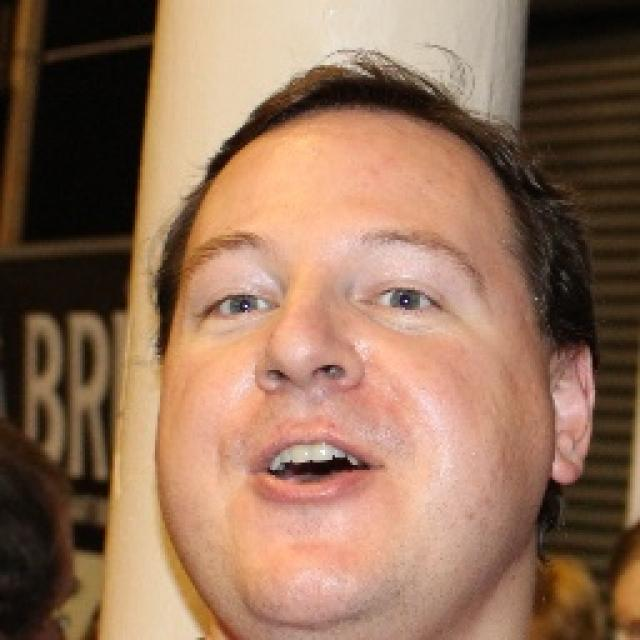earlobe: (552, 442, 589, 486)
eye: (368, 284, 442, 316), (206, 288, 279, 319)
nose: (257, 372, 365, 413)
wholeear: (550, 344, 596, 488)
